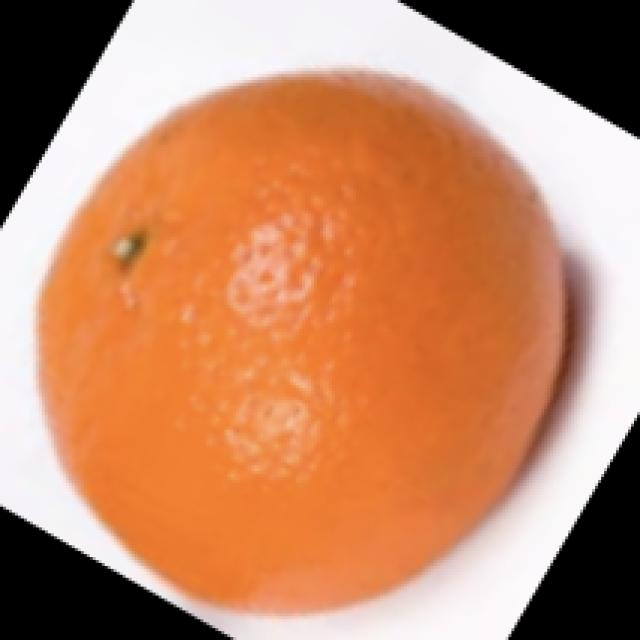matang: (35, 68, 559, 614)
